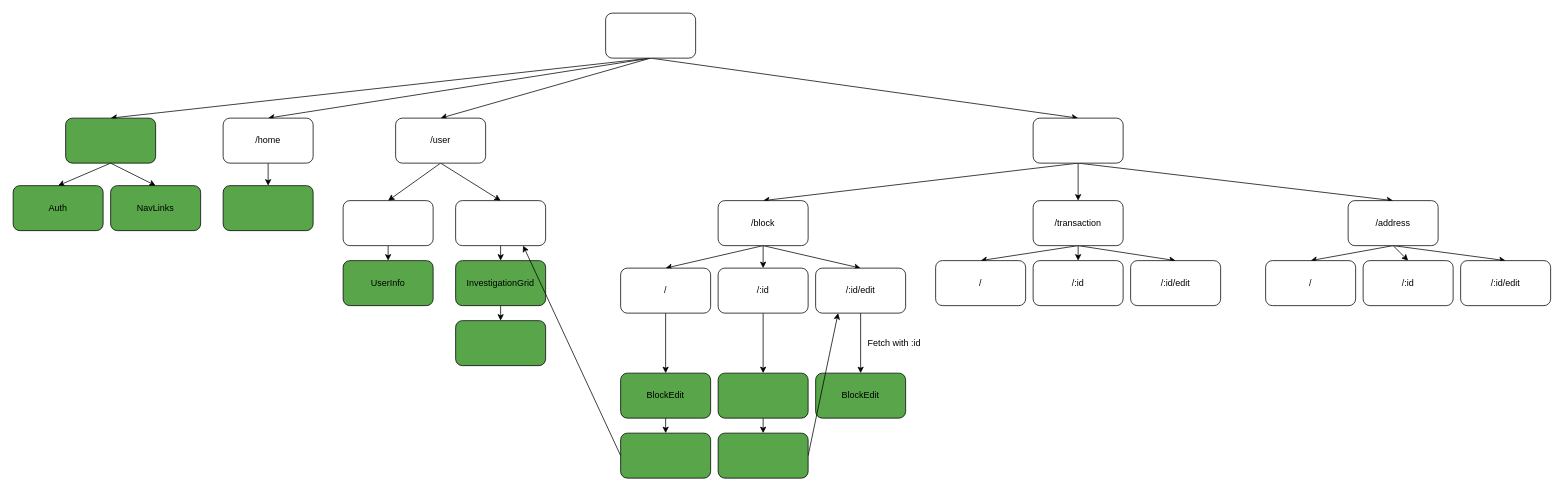
The diagram is 1564 pixels wide and 491 high, and some of its shapes have lost their labels. Here are the shapes that lost their labels. From the top down, the box of each, then its label:
(605, 12, 696, 58): app
(65, 117, 156, 163): NavBar
(1032, 117, 1123, 163): /investigation
(222, 185, 313, 231): Home
(342, 200, 433, 246): /profile
(455, 200, 546, 246): /investigations
(455, 320, 546, 366): InvestigationThumb
(717, 372, 808, 418): BlockShow
(620, 432, 711, 478): SaveButton
(717, 432, 808, 478): EditButton
